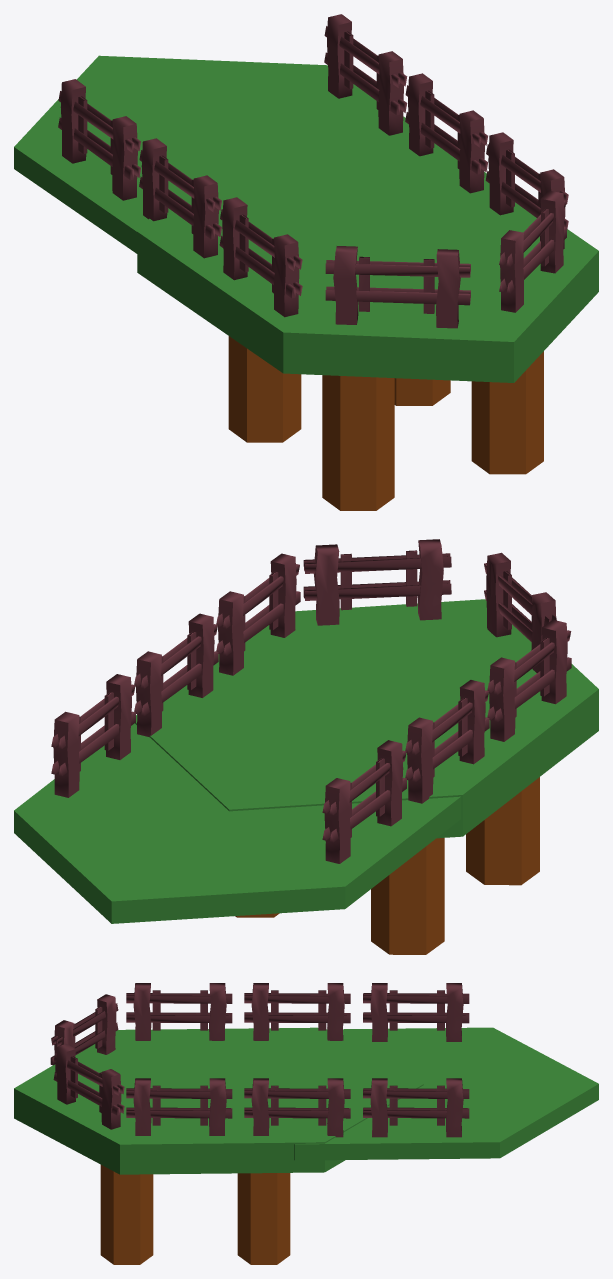
File: deck.fbx
The picture shows the model from 3 angles, top to bottom: view 1: azimuth 30°, elevation 25°; view 2: azimuth 150°, elevation 25°; view 3: azimuth 270°, elevation 25°; orthographic projection. The views are drawn at different scales.
Visible parts, largest first — view 1: Hex4.005, Cube.002, Hex4.002; view 2: Hex4.005, Cube.002, Hex4.002; view 3: Hex4.005, Cube.002, Hex4.002.
Boxes of the visible parts, x1,y1,x2,y2 form: Hex4.005: (14,55,598,382); Cube.002: (58,14,568,328); Hex4.002: (228,336,543,510); Hex4.005: (14,599,598,923); Cube.002: (51,539,571,863); Hex4.002: (235,777,539,954); Hex4.005: (14,1027,598,1174); Cube.002: (50,983,469,1137); Hex4.002: (100,1165,290,1264).
Bounding box in the file's own units: 5912 × 4526 × 12356.
